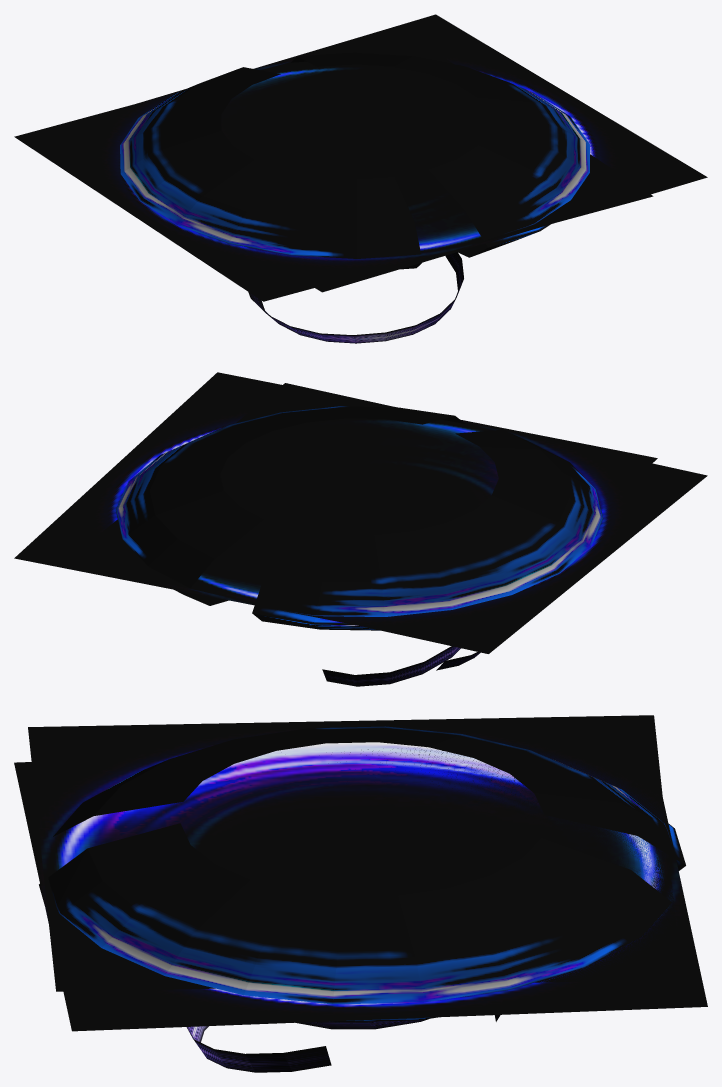
File: fbx_skill_104_x_twinblade_attack_4.fbx
The picture shows the model from 3 angles, top to bottom: view 1: azimuth 30°, elevation 25°; view 2: azimuth 150°, elevation 25°; view 3: azimuth 270°, elevation 25°; orthographic projection. The views are drawn at different scales.
Parts seen in each view (by area): view 1: Plane006; view 2: Plane006; view 3: Plane006.
Part boxes in pixels (x1,y1,x2,y2): Plane006: (14,14,707,343); Plane006: (14,372,707,686); Plane006: (14,715,707,1072).
Bounding box in the file's own units: 371 × 344 × 126.
